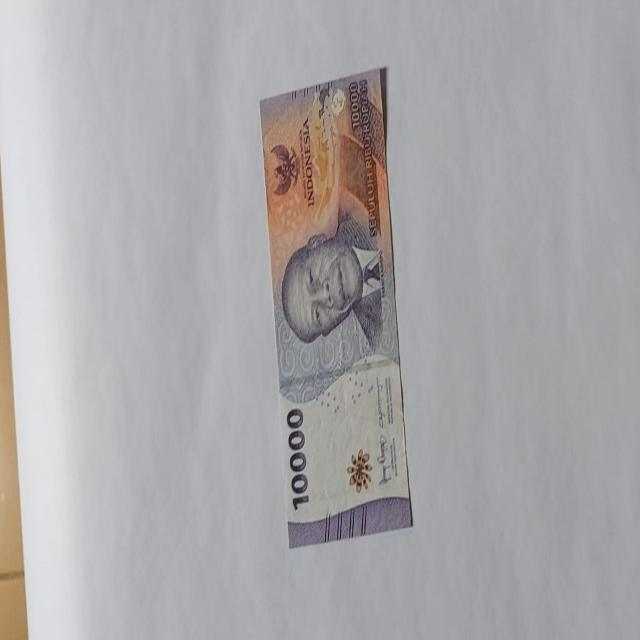sepuluh ribu rupiah: (257, 66, 413, 546), (280, 211, 386, 353)
